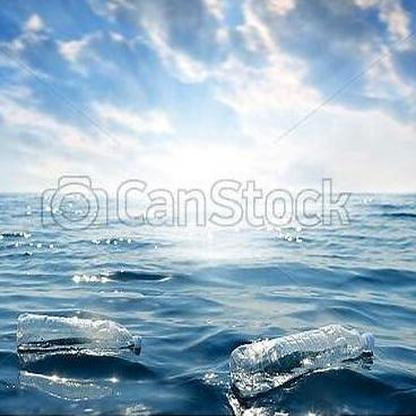plastic bottle: (228, 323, 376, 390), (15, 313, 142, 353)
